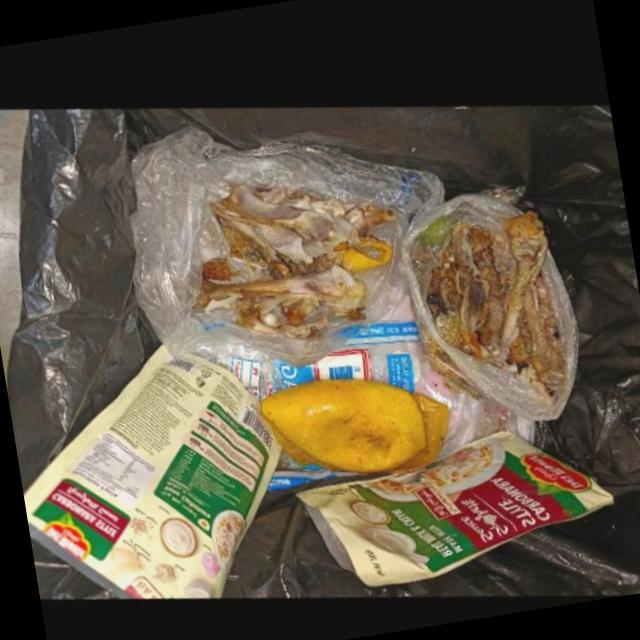bao_bi_thuc_pham: (23, 341, 281, 598), (294, 423, 612, 581)
thuc_an_thua: (192, 180, 394, 334), (425, 204, 561, 387)
tui_ni_long: (129, 123, 443, 365), (399, 185, 577, 410)
vo_trai_cay: (258, 372, 448, 469)
